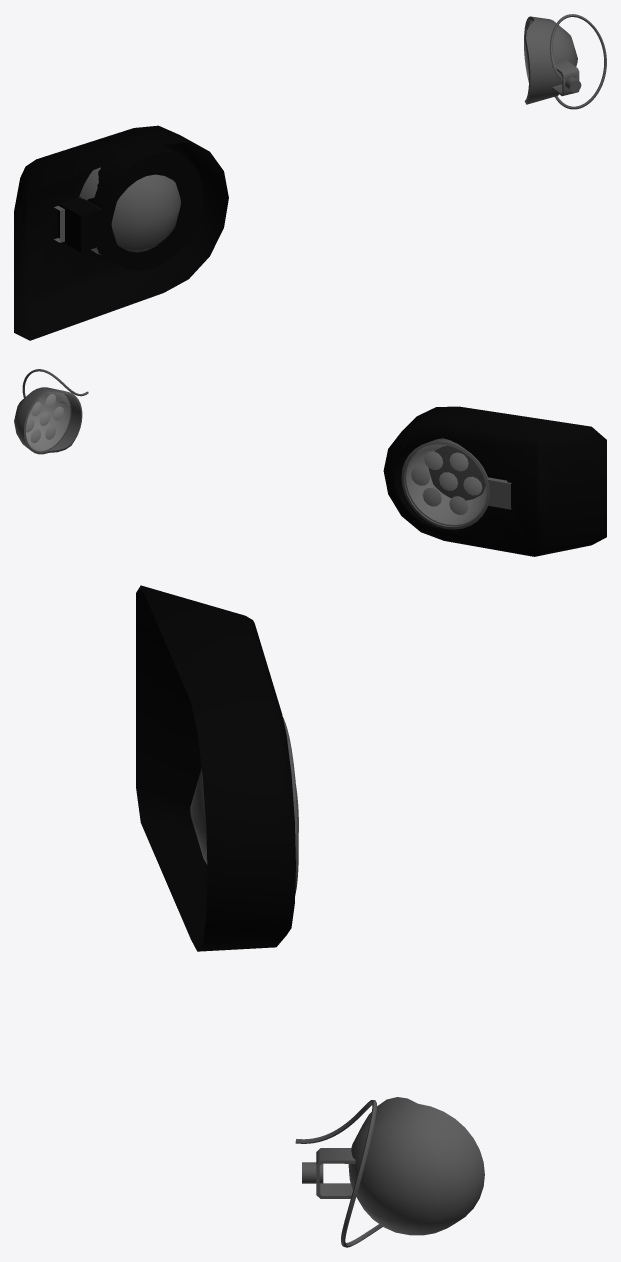
The model's file is landinglight.gltf.
3 renders of one model, top to bottom at view 1: azimuth 30°, elevation 25°; view 2: azimuth 150°, elevation 25°; view 3: azimuth 270°, elevation 25°, orthographic. The views are drawn at different scales.
Visible parts, largest first — view 1: pod, housing, ldg-housing, ldg-cable, ldg-mount; view 2: pod, glass, ldg-glass, reflector, leds, ldg-housing, housing, ldg-reflector, ldg-leds, arm; view 3: pod, ldg-housing, ldg-mount, housing, ldg-cable.
Part boxes in pixels (bbox=[...]): pod: bbox=[14, 125, 228, 340]; housing: bbox=[79, 167, 180, 254]; ldg-housing: bbox=[524, 16, 577, 104]; ldg-cable: bbox=[549, 14, 606, 109]; ldg-mount: bbox=[552, 60, 581, 96]; pod: bbox=[383, 406, 606, 556]; glass: bbox=[404, 444, 486, 526]; ldg-glass: bbox=[26, 392, 71, 451]; reflector: bbox=[406, 444, 486, 524]; leds: bbox=[411, 451, 481, 514]; ldg-housing: bbox=[14, 387, 82, 454]; housing: bbox=[401, 438, 489, 529]; ldg-reflector: bbox=[26, 392, 69, 450]; ldg-leds: bbox=[26, 394, 63, 442]; arm: bbox=[488, 477, 511, 509]; pod: bbox=[136, 585, 295, 951]; ldg-housing: bbox=[348, 1097, 484, 1235]; ldg-mount: bbox=[302, 1148, 355, 1198]; housing: bbox=[190, 717, 298, 895]; ldg-cable: bbox=[295, 1100, 382, 1247].
Bounding box in the file's own units: 1.23 × 0.2628 × 0.35.
